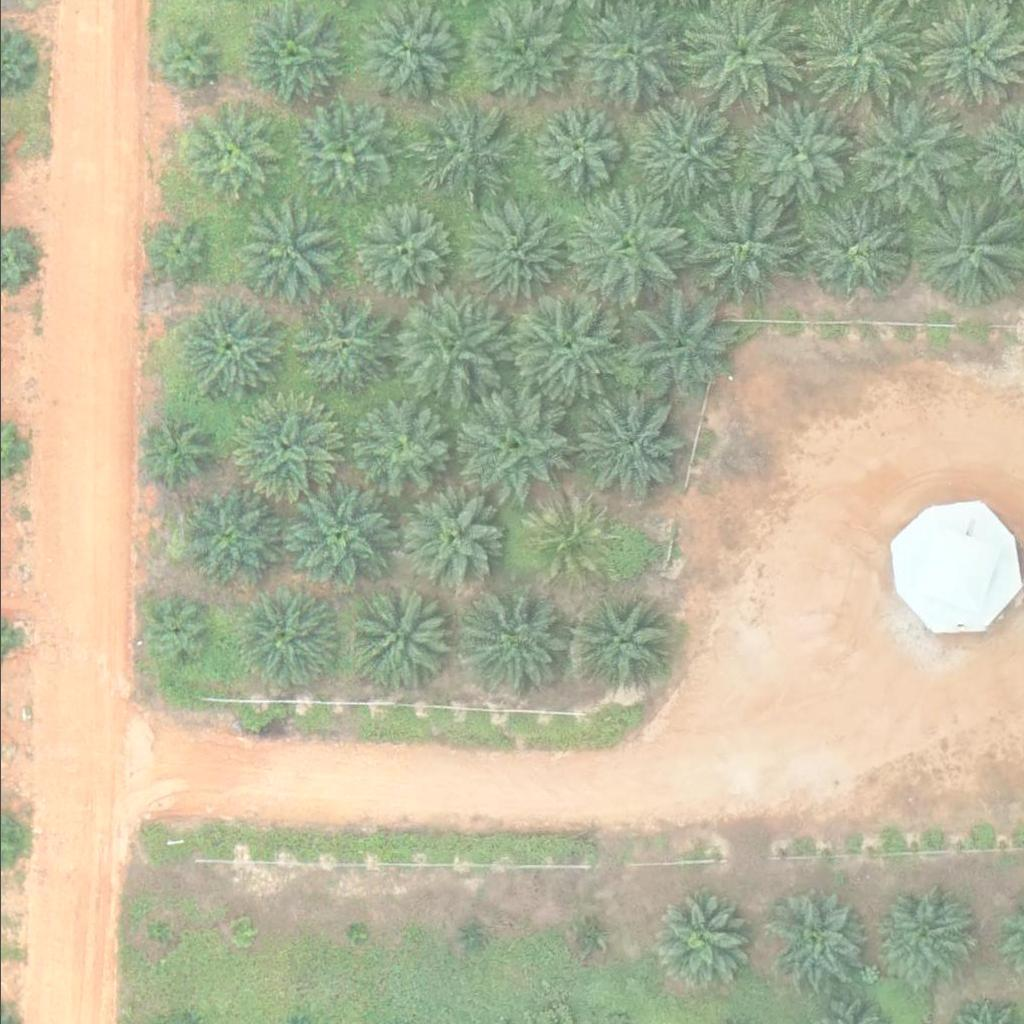Kelapa_Sawit: (571, 393, 685, 506), (455, 391, 569, 504), (620, 291, 734, 404), (909, 192, 1022, 305), (283, 480, 396, 593), (849, 100, 963, 212), (514, 291, 628, 403), (681, 194, 795, 306), (222, 393, 335, 505), (457, 588, 570, 700), (390, 288, 503, 400), (568, 191, 681, 303), (623, 95, 736, 207), (738, 97, 851, 209), (875, 882, 976, 982), (764, 890, 865, 990), (656, 888, 757, 988), (569, 590, 670, 690), (177, 487, 278, 587), (286, 296, 387, 396), (179, 300, 280, 400), (463, 202, 564, 302), (350, 203, 451, 303), (241, 203, 342, 303), (418, 102, 519, 202), (292, 104, 393, 204), (180, 104, 281, 204), (468, 10, 569, 110), (360, 4, 461, 104), (238, 5, 339, 105), (803, 202, 903, 302), (350, 585, 450, 685), (236, 590, 336, 690), (397, 491, 497, 591), (347, 397, 447, 497), (519, 496, 607, 584), (529, 104, 617, 191), (138, 596, 214, 671), (146, 22, 222, 97), (133, 414, 208, 489), (139, 218, 214, 293), (572, 925, 597, 950), (459, 925, 484, 950), (341, 921, 366, 946), (229, 917, 254, 942), (145, 920, 170, 945)
